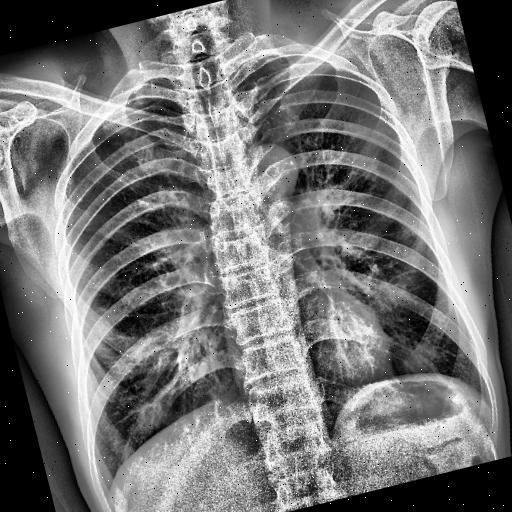0- Aortic enlargement: (227, 138, 302, 206), (240, 136, 304, 200)
13- Pulmonary fibrosis: (345, 154, 384, 188)
